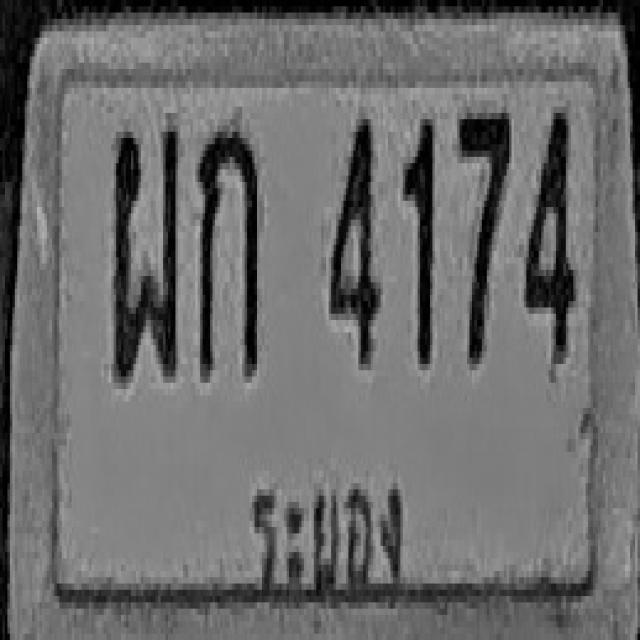1: (402, 113, 434, 364)
10GorGai: (196, 126, 258, 377)
37PhorPhueng: (113, 122, 179, 380)
4: (522, 107, 574, 364), (329, 113, 378, 364)
7: (457, 107, 509, 364)
Rayong: (238, 446, 416, 595)
